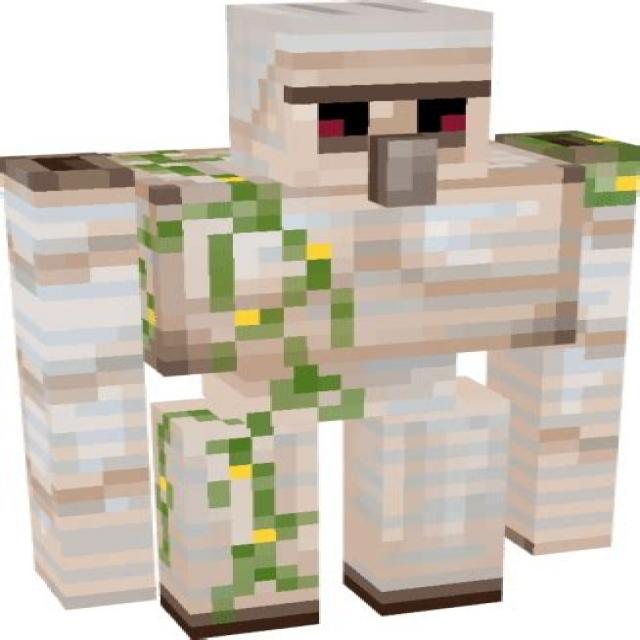Iron Golem: (2, 0, 640, 639)
